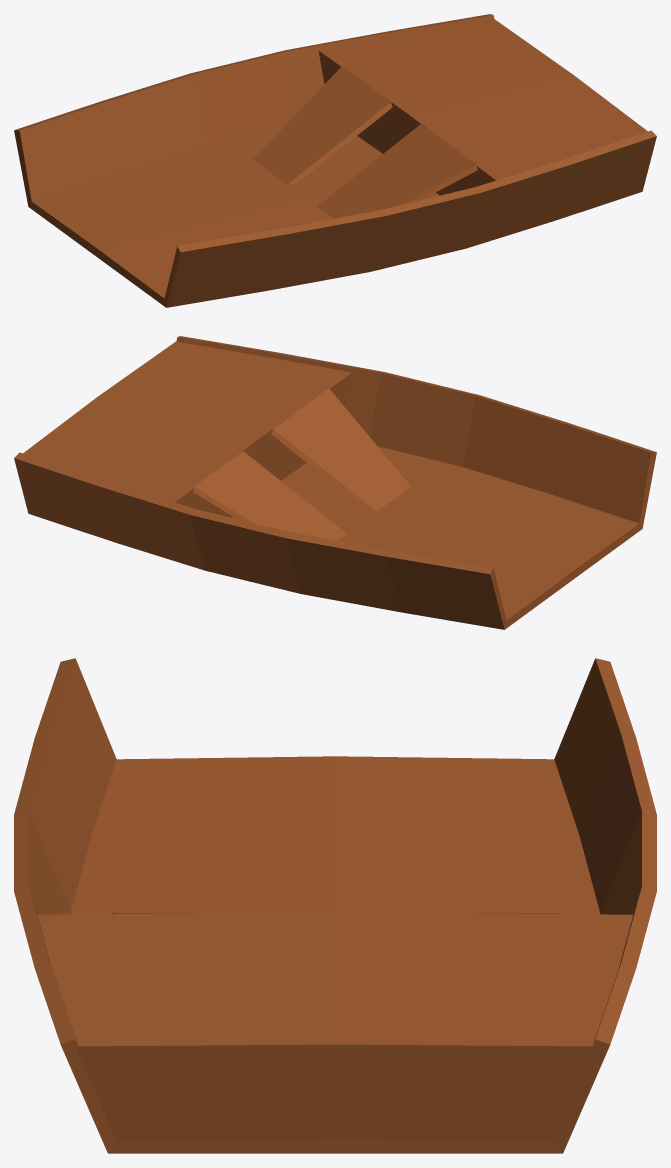
File: Ship 1.fbx
3 renders of one model, top to bottom at view 1: azimuth 30°, elevation 25°; view 2: azimuth 150°, elevation 25°; view 3: azimuth 270°, elevation 25°, orthographic. The views are drawn at different scales.
Parts seen in each view (by area): view 1: Ship 1; view 2: Ship 1; view 3: Ship 1.
Boxes of the visible parts, x1,y1,x2,y2 form: Ship 1: (14, 14, 656, 307); Ship 1: (14, 336, 656, 629); Ship 1: (14, 658, 656, 1153).
Size of the model in its own units: 2170 by 300 by 1539.
